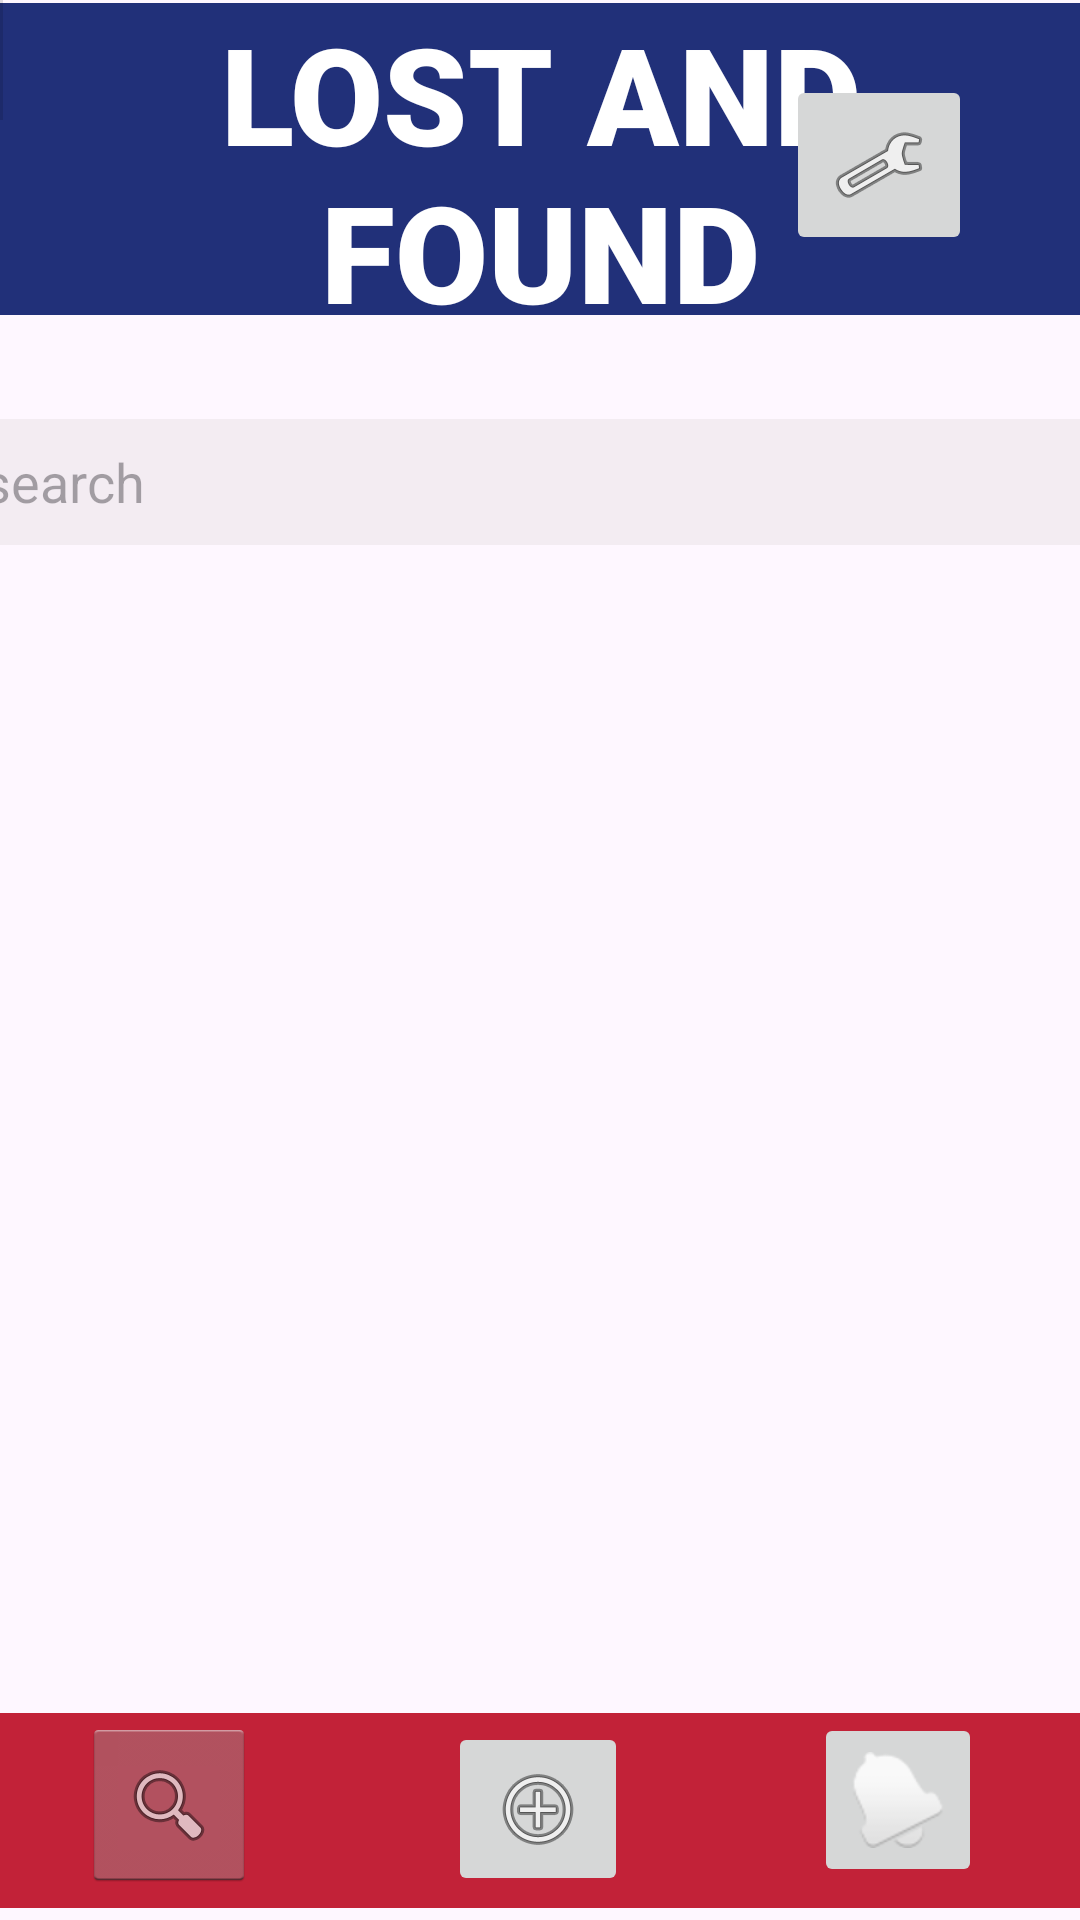

Icons on this 1080*1920 Android screen, each with the point to tap as (x=x, y=y):
add: (x=538, y=1809)
manage: (x=873, y=156)
popup reminder: (x=898, y=1800)
search: (x=169, y=1805)
